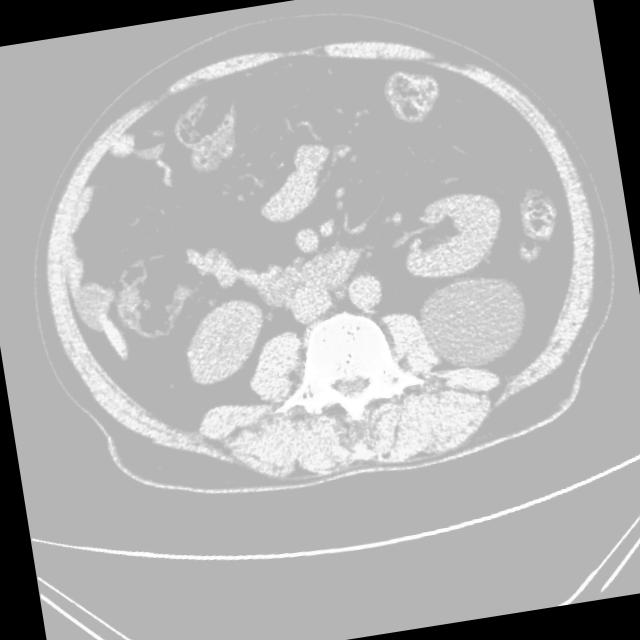cysts: (8, 0, 631, 522)
